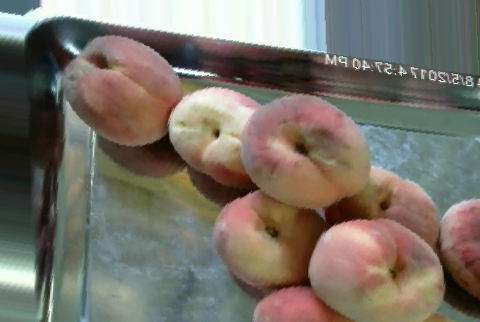Peach: (242, 91, 366, 209), (305, 219, 444, 321), (62, 33, 184, 145), (216, 192, 328, 289), (167, 85, 265, 184)
